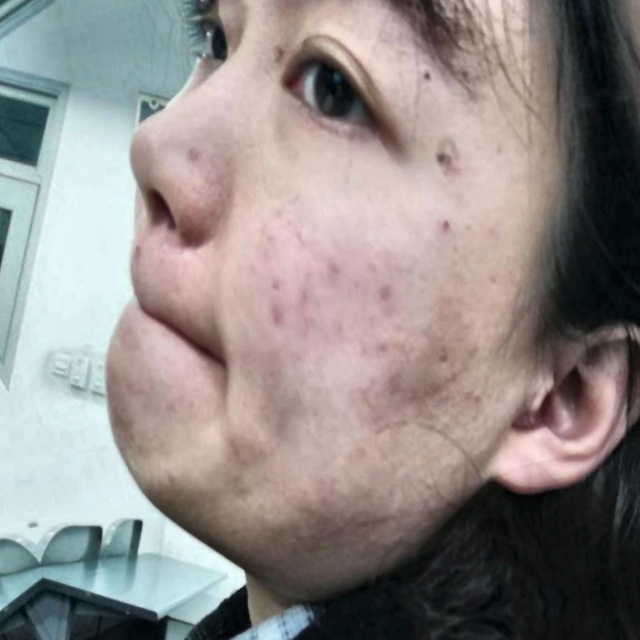comedone: (432, 201, 460, 238)
